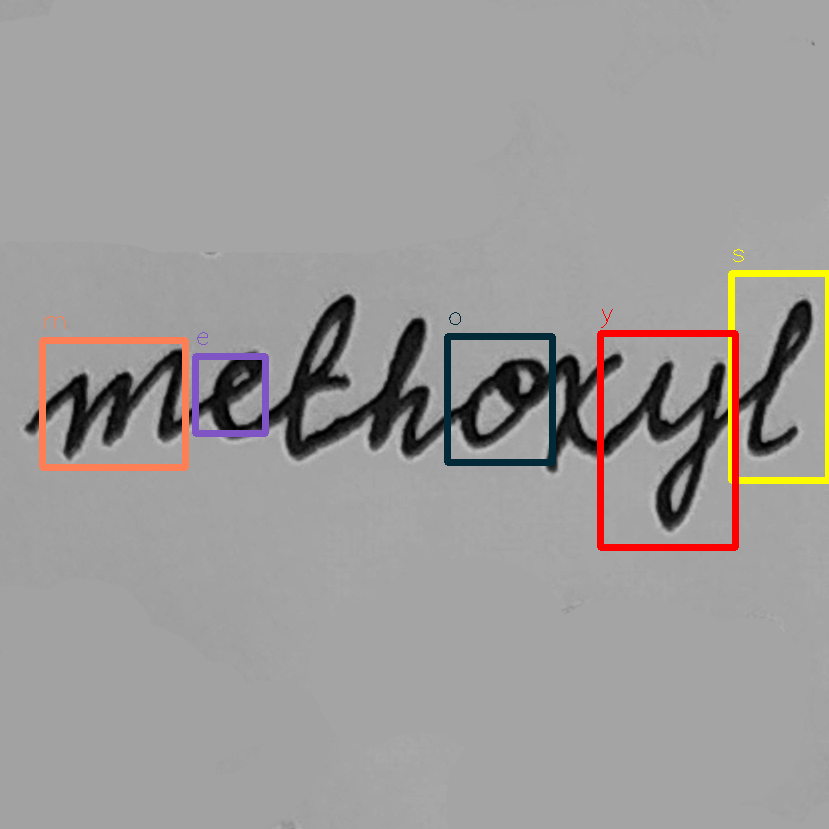e: (206, 344, 271, 442)
h: (362, 313, 437, 462)
l: (743, 293, 813, 463)
m: (58, 343, 192, 464)
o: (451, 352, 549, 450)
t: (279, 292, 357, 462)
x: (538, 347, 631, 476)
y: (635, 352, 729, 533)
